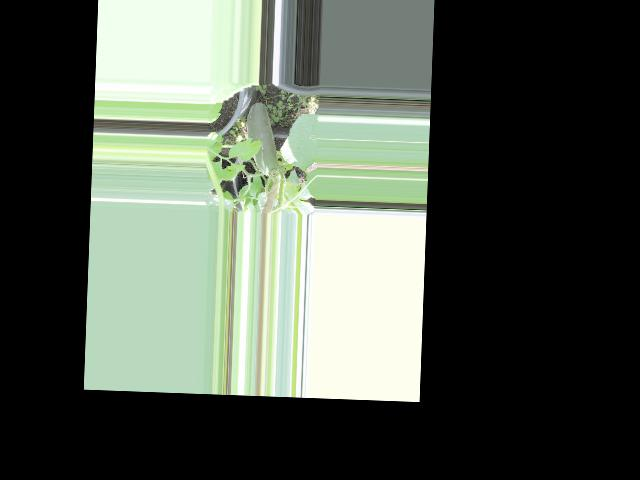cucumber: (245, 102, 280, 176)
